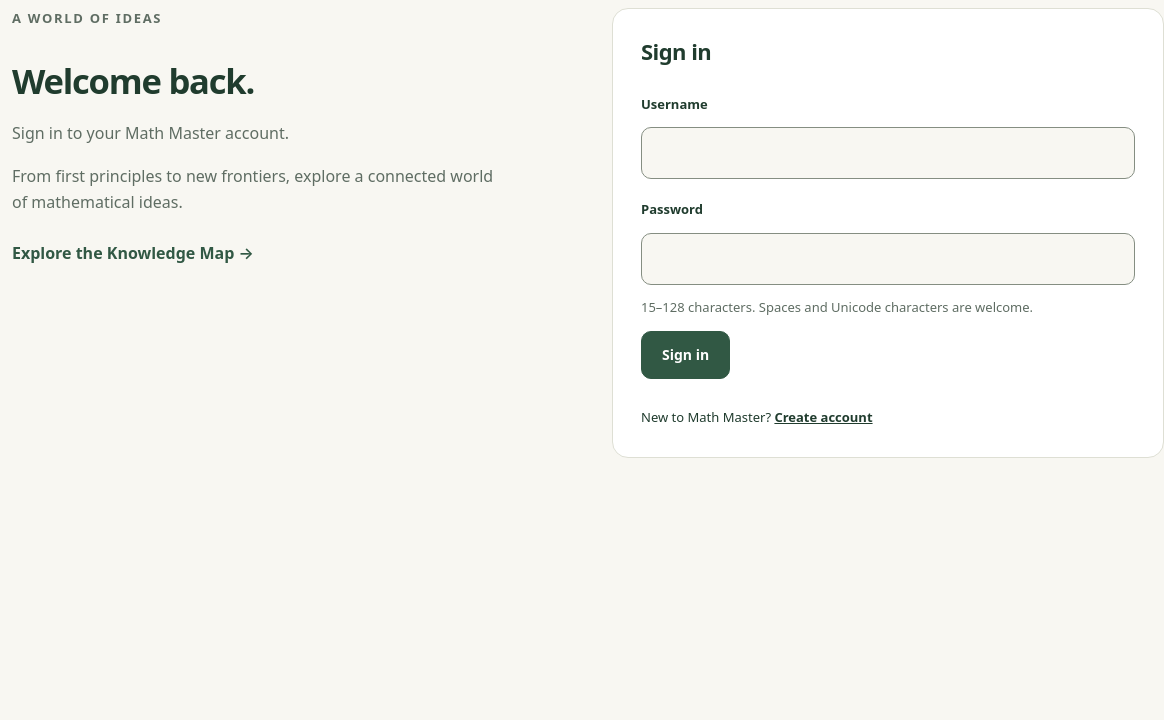
Test: TestCredentialForms › focuses a fixed error and clears the password without navigating
The width and height of the screenshot is (1164, 720).
In the field labelled "Username": (888, 153) [641,127,1135,179], type "learner_one"
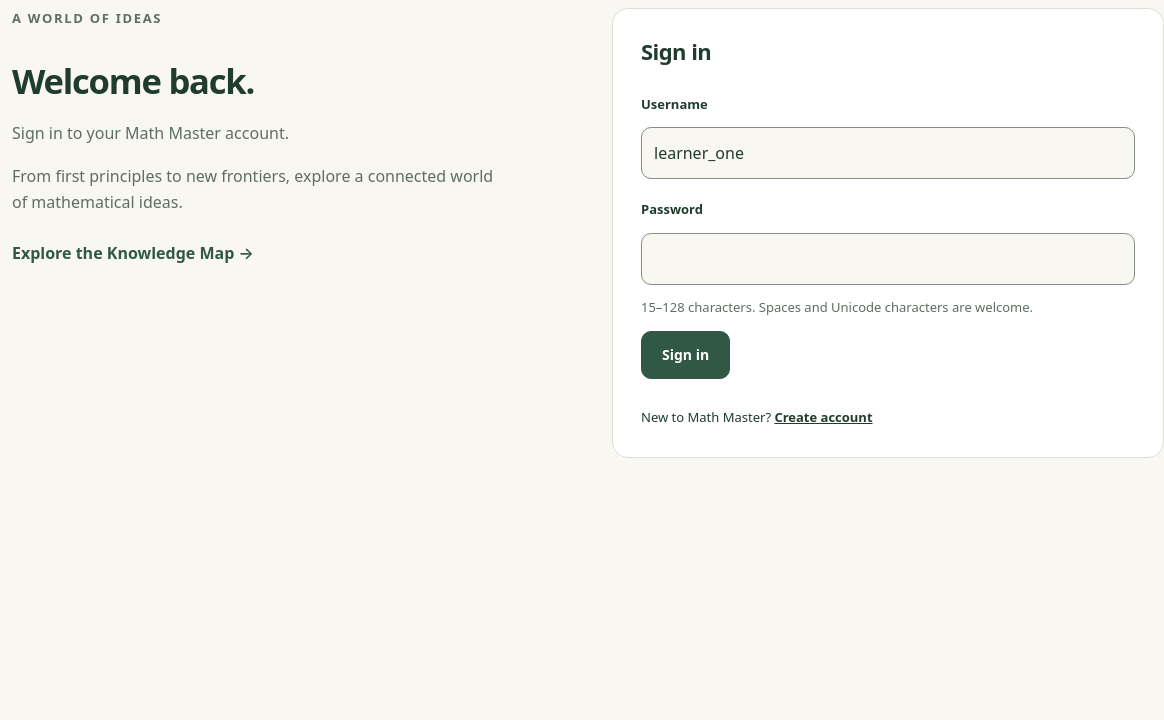
In the password field labelled "Password": (888, 259) [641,233,1135,285], type "  中文数学密码保留所有空格与字符  "
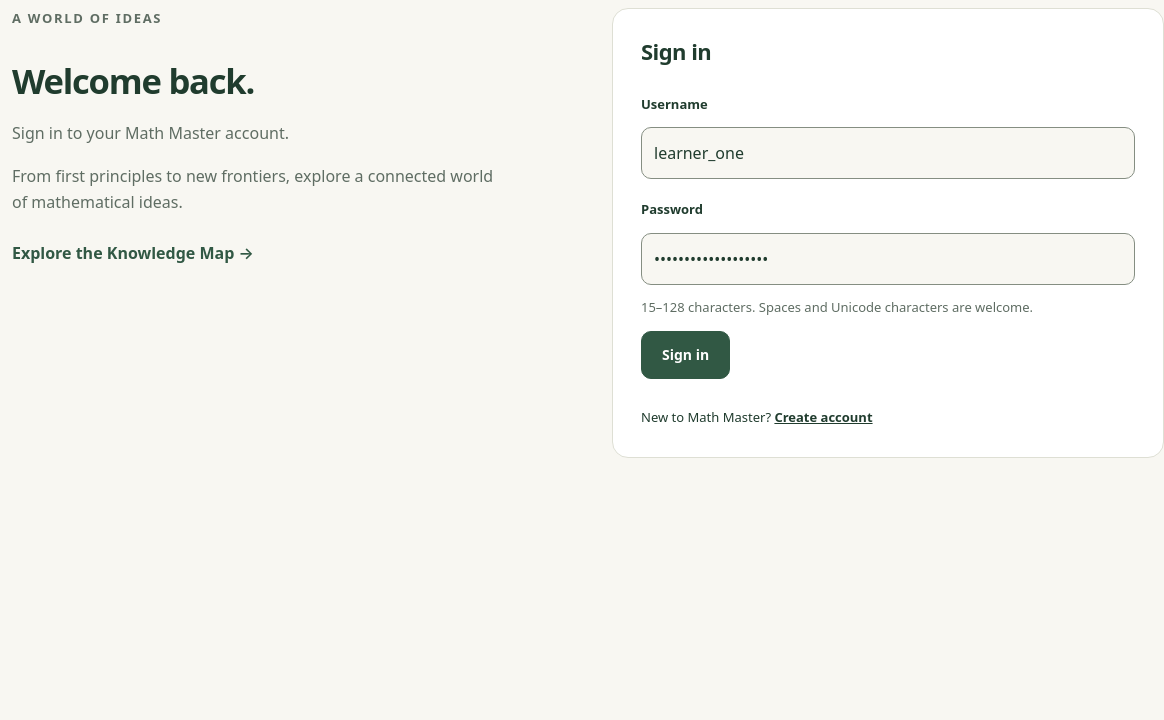
Submit the form labelled "Password", box [641,86,1135,379]
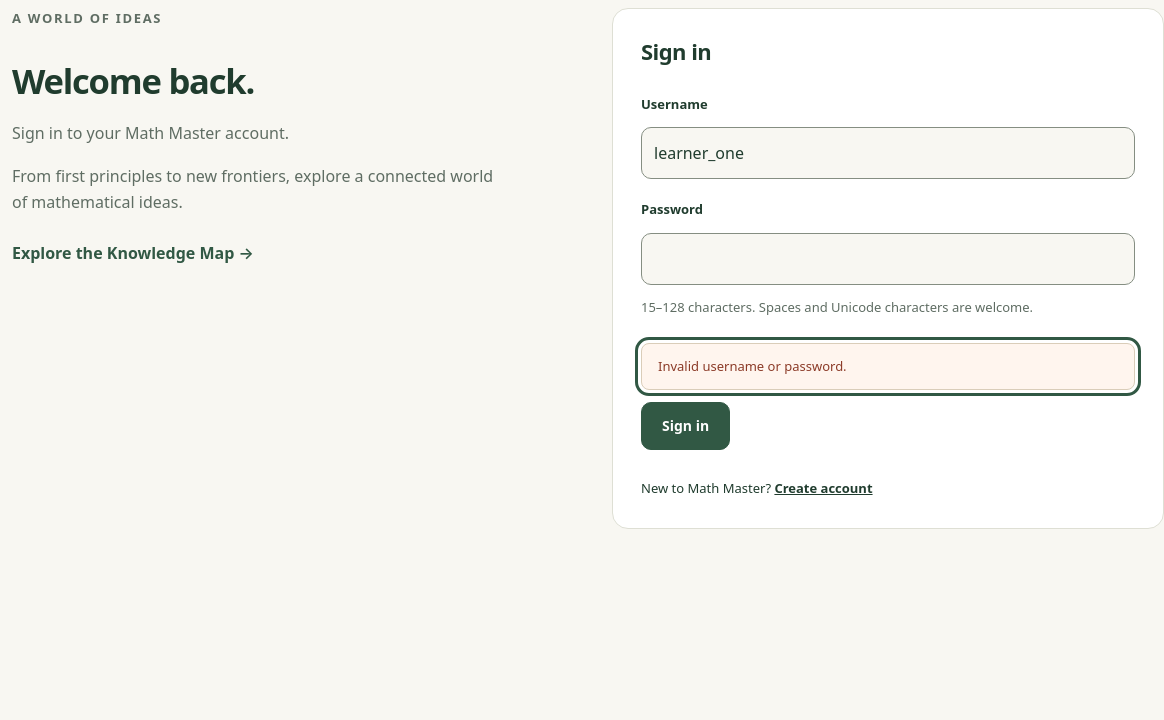
Check: the message reads "Invalid username or password.", box [658,357,847,375]
Check: the password field labelled "Password" is empty, box [641,233,1135,285]
